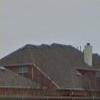Chimney: (81, 36, 93, 71)
